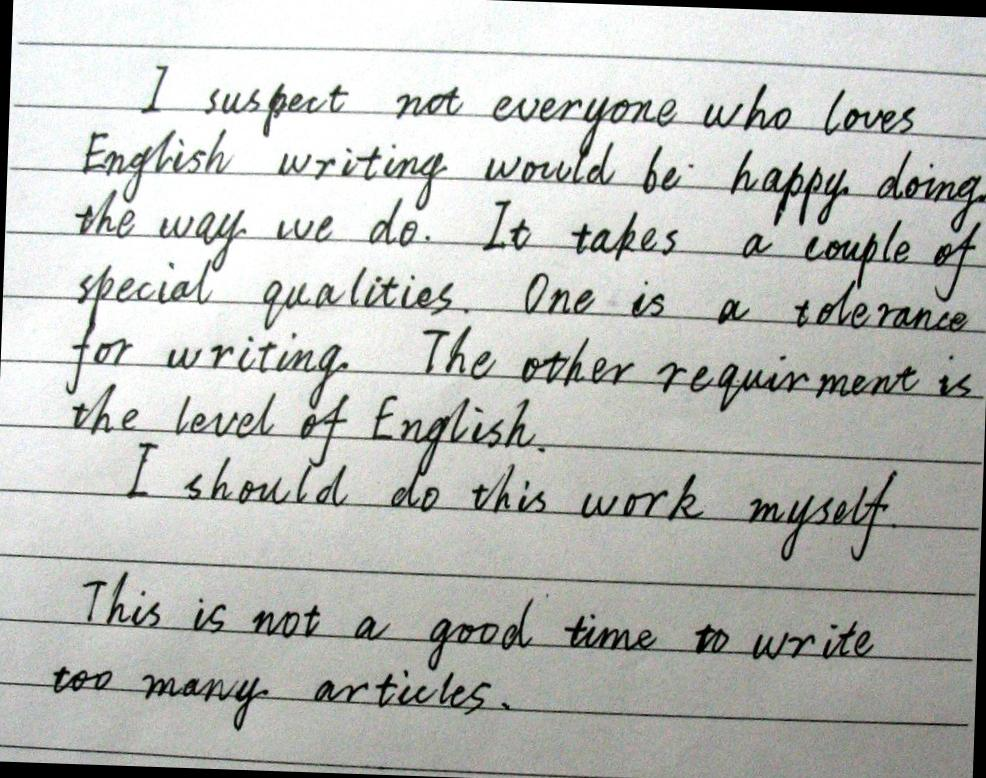text: (60, 306, 976, 435), (69, 181, 984, 307), (75, 116, 986, 236), (119, 437, 902, 570), (73, 249, 972, 362), (77, 568, 879, 692), (136, 58, 919, 170), (66, 379, 551, 478), (48, 654, 517, 745)
